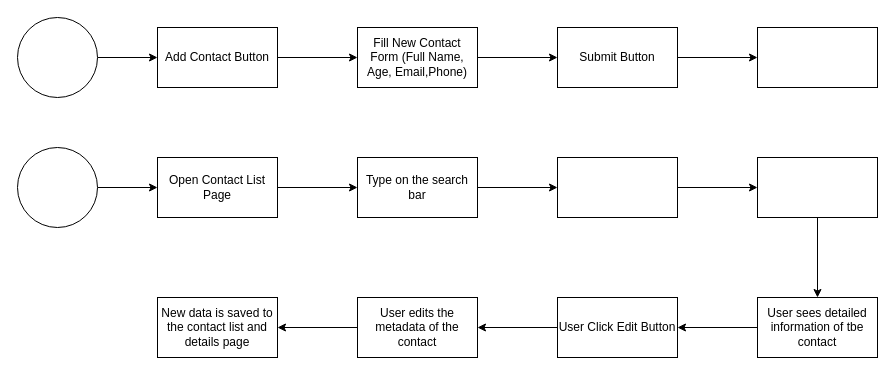
The diagram is 895 pixels wide and 375 high, and some of its shapes have lost their labels. Here are the shapes that lost their labels. From the top down, the box of each, then its label:
(16, 16, 98, 98): Start (Add Contact)
(756, 26, 878, 88): Contact Added to Contact List
(16, 146, 98, 228): Start (Manage Contact)
(556, 156, 678, 218): Search result appears based on name
(756, 156, 878, 218): Click Detail Button
